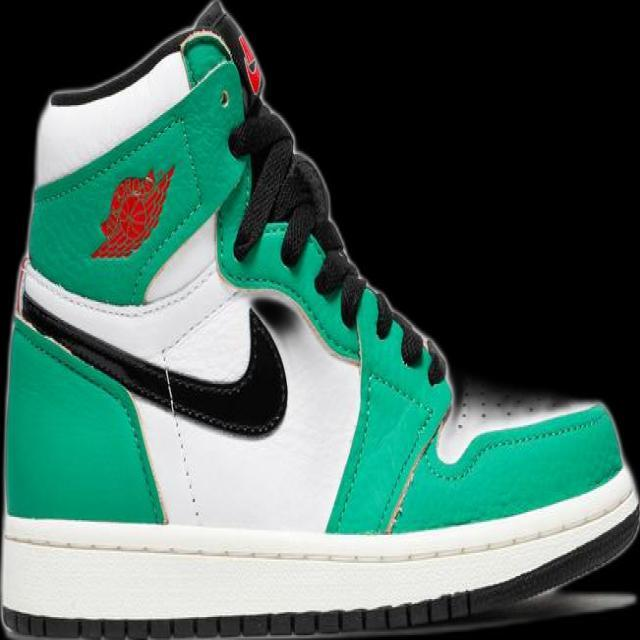J1_InsoleChar: (0, 0, 639, 639)
J1_ShoeLogo: (89, 163, 176, 260)
J1_StitchPattern: (0, 497, 638, 639), (228, 95, 450, 388), (16, 285, 207, 521), (1, 501, 639, 569), (15, 282, 289, 438), (0, 590, 474, 639), (379, 405, 450, 536), (363, 283, 448, 387), (157, 358, 205, 523)
